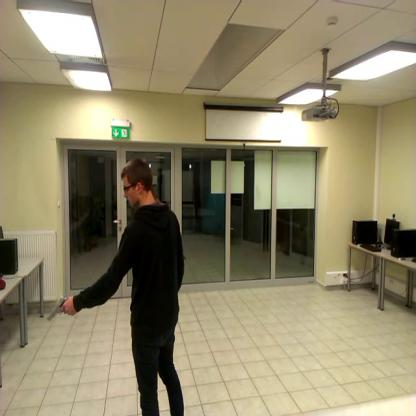Pistol: (43, 289, 69, 330)
